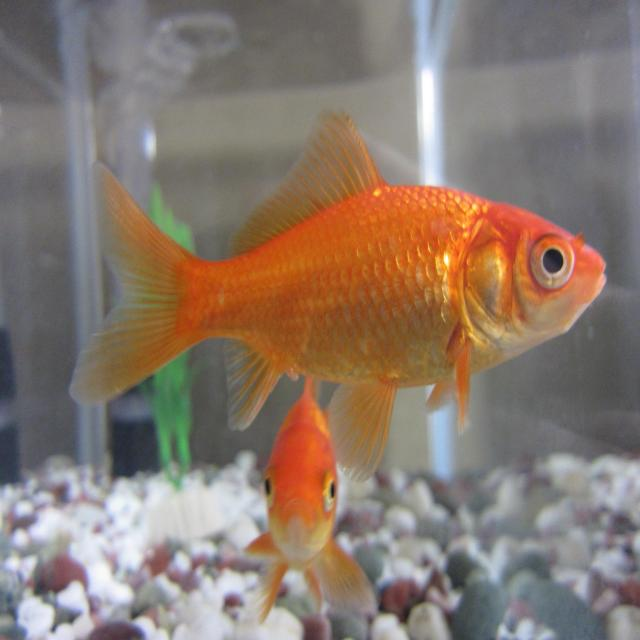GoldFish: (66, 110, 604, 487), (243, 372, 384, 620)
